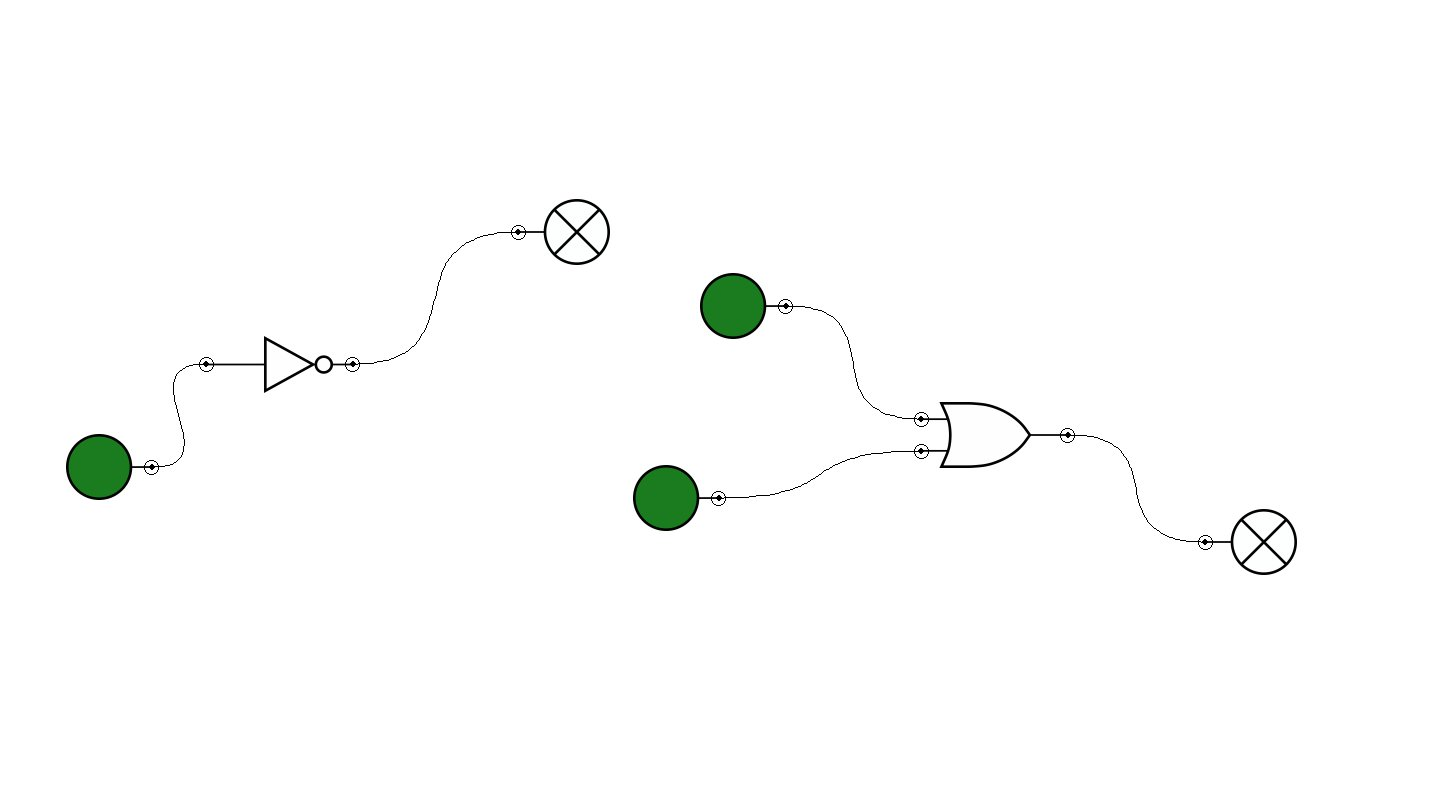bulb: (511, 199, 610, 265), (1198, 509, 1297, 575)
not: (199, 336, 360, 393)
or: (914, 402, 1075, 468)
switch_True: (633, 465, 726, 531), (700, 273, 793, 339), (66, 434, 159, 500)
